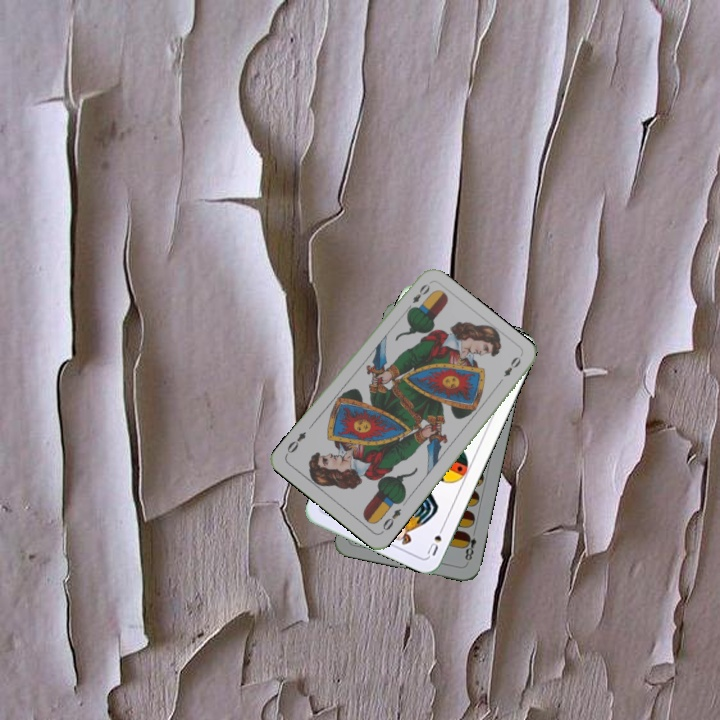E8: (460, 526, 479, 566)
EO: (402, 280, 433, 315), (377, 504, 404, 536)
SU: (423, 520, 448, 558)
